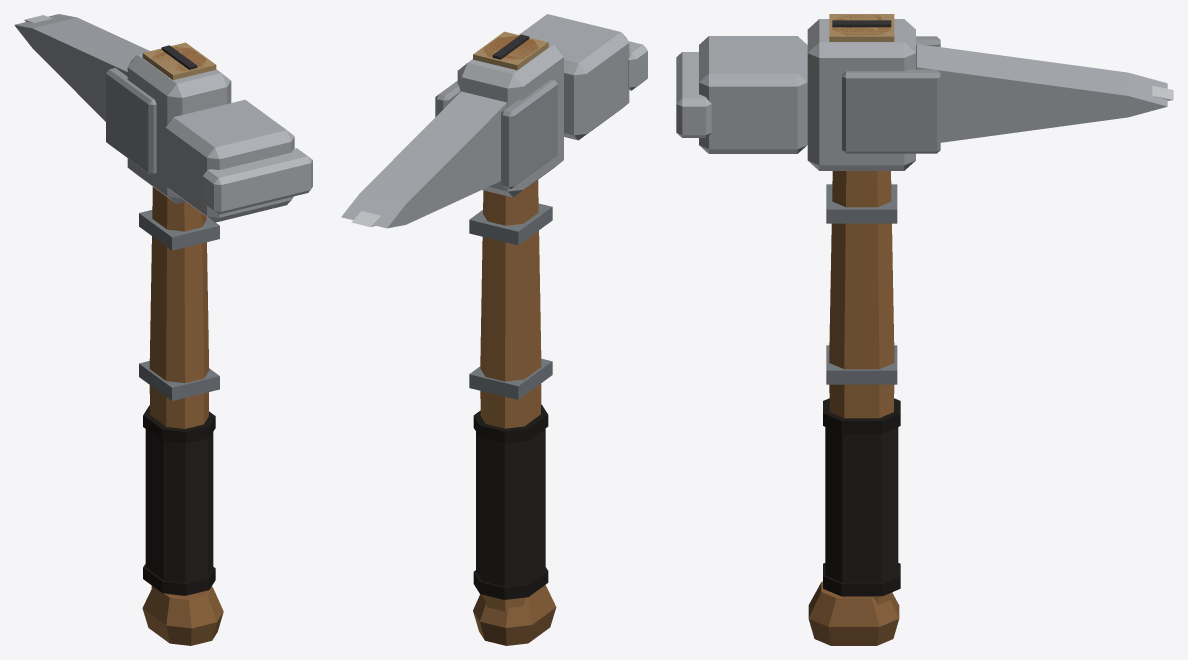
The model's file is SteelPick.glb.
3 renders of one model, left to right at view 1: azimuth 30°, elevation 25°; view 2: azimuth 150°, elevation 25°; view 3: azimuth 270°, elevation 25°, orthographic. The views are drawn at different scales.
Visible parts, largest first — view 1: Handle, Head; view 2: Handle, Head; view 3: Head, Handle.
Part boxes in pixels (<box>): Handle: <box>139,42,223,645</box>; Head: <box>14,14,312,222</box>; Handle: <box>469,31,556,645</box>; Head: <box>341,14,647,228</box>; Head: <box>676,19,1173,170</box>; Handle: <box>808,14,900,645</box>.
Size of the model in its own units: 0.62 by 3.41 by 2.52.
